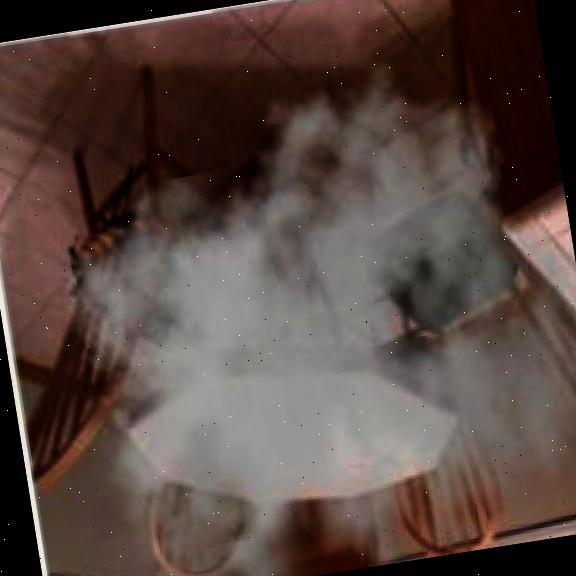smoke: (17, 34, 576, 576)
